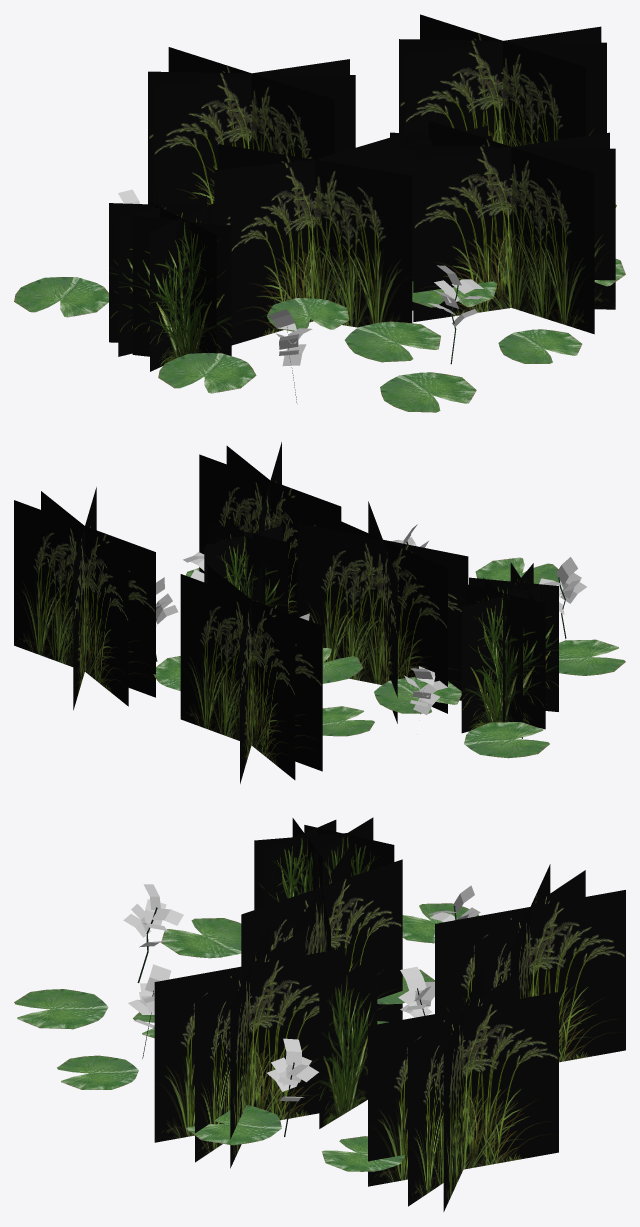
The model's file is Conjunto2.fbx.
The picture shows the model from 3 angles, top to bottom: view 1: azimuth 30°, elevation 25°; view 2: azimuth 150°, elevation 25°; view 3: azimuth 270°, elevation 25°; orthographic projection. The views are drawn at different scales.
Visible parts, largest first — view 1: Cylinder.006; view 2: Cylinder.006; view 3: Cylinder.006.
Boxes of the visible parts, left/top/right/bottom form: Cylinder.006: left=14, top=14, right=625, bottom=412; Cylinder.006: left=14, top=442, right=625, bottom=783; Cylinder.006: left=14, top=817, right=625, bottom=1211.
Bounding box in the file's own units: 1576 × 426 × 1435.
